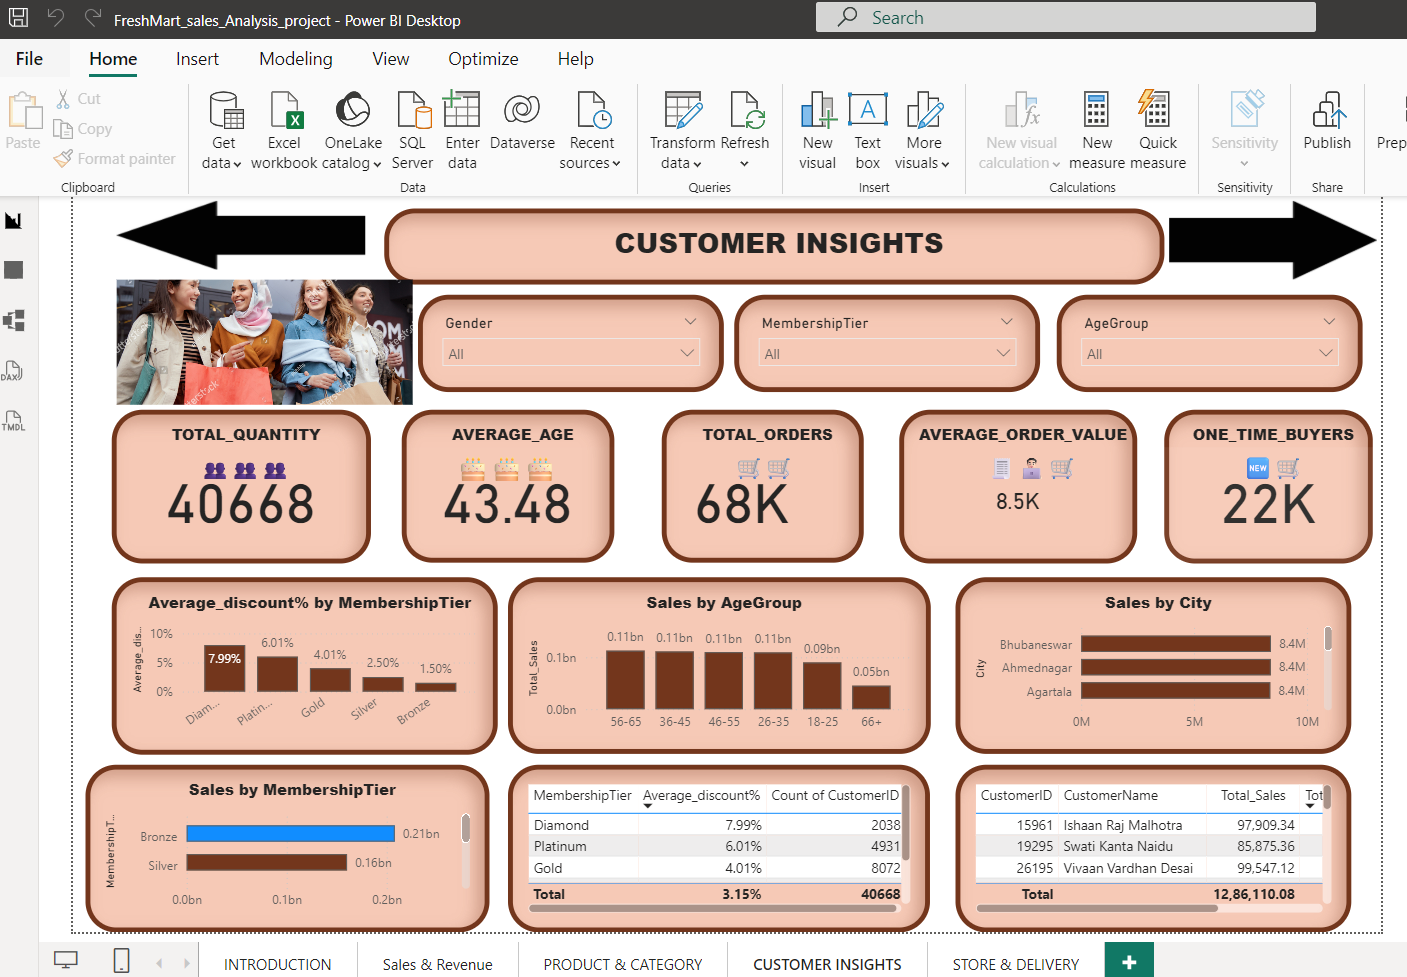

Layout of this report page (visuals, bound fields, positions):
{"tool":"powerbi","page":{"name":"CUSTOMER INSIGHTS","canvas":[1280,720],"ordinal":3},"visuals":[{"type":"textbox","box":[0,0,1280,64],"z":0},{"type":"image","box":[16,6,92,54],"z":1000},{"type":"textbox","box":[119.4,3.6,482.6,56.7],"z":2000},{"type":"actionButton","box":[640,14,120,36],"z":3000},{"type":"actionButton","box":[766,14,120,36],"z":4000},{"type":"actionButton","box":[892,14,120,36],"z":5000},{"type":"actionButton","box":[1018,14,120,36],"z":6000},{"type":"actionButton","box":[1144,14,120,36],"z":7000},{"type":"slicer","title":"GENDER","fields":{"Values":["FreshMart_Sales_Analysis.Gender"]},"box":[15.7,76,406.6,73.6],"z":8000},{"type":"slicer","title":"MEMBERSHIP TIER","fields":{"Values":["FreshMart_Sales_Analysis.MembershipTier"]},"box":[437.9,76,406.6,73.6],"z":9000},{"type":"slicer","title":"AGE GROUP","fields":{"Values":["FreshMart_Sales_Analysis.AgeGroup"]},"box":[857.8,76,406.6,73.6],"z":10000},{"type":"cardVisual","title":"📦 TOTAL QUANTITY","fields":{"Data":["FreshMart_Sales_Analysis.Toatl_customers"]},"box":[15.7,173.7,240.1,92.9],"z":11000},{"type":"cardVisual","title":"🎂 AVERAGE AGE","fields":{"Data":["FreshMart_Sales_Analysis.Average_age"]},"box":[267.8,173.7,240.1,92.9],"z":12000},{"type":"cardVisual","title":"🧾 TOTAL ORDERS","fields":{"Data":["FreshMart_Sales_Analysis.Total_Orders"]},"box":[520,173.7,240.1,92.9],"z":13000},{"type":"cardVisual","title":"🛒 AVERAGE ORDER VALUE","fields":{"Data":["FreshMart_Sales_Analysis.Average_order_value"]},"box":[772.1,173.7,240.1,92.9],"z":14000},{"type":"cardVisual","title":"🆕 ONE TIME BUYERS","fields":{"Data":["FreshMart_Sales_Analysis.One_Time_Buyers"]},"box":[1023.1,173.7,240.1,92.9],"z":15000},{"type":"clusteredColumnChart","title":"Average Discount % by Membership Tier","fields":{"Y":["FreshMart_Sales_Analysis.Average_discount%"],"Category":["FreshMart_Sales_Analysis.MembershipTier"]},"box":[15.7,279.9,407.8,217.2],"z":16000},{"type":"clusteredColumnChart","title":"Sales by AgeGroup","fields":{"Category":["FreshMart_Sales_Analysis.AgeGroup"],"Y":["FreshMart_Sales_Analysis.Total_Sales"]},"box":[435.5,279.9,409,217.2],"z":17000},{"type":"clusteredBarChart","title":"Sales by City","fields":{"Y":["FreshMart_Sales_Analysis.Total_Sales"],"Category":["FreshMart_Sales_Analysis.City"]},"box":[856.6,279.9,407.8,217.2],"z":18000},{"type":"clusteredBarChart","title":"Sales by MembershipTier","fields":{"Y":["FreshMart_Sales_Analysis.Total_Sales"],"Category":["FreshMart_Sales_Analysis.MembershipTier"]},"box":[15.7,507.9,407.8,202.7],"z":19000},{"type":"tableEx","title":"Membership Tier Summary","fields":{"Values":["FreshMart_Sales_Analysis.MembershipTier","FreshMart_Sales_Analysis.Average_discount%","Count(FreshMart_Sales_Analysis.CustomerID)"]},"box":[435.5,507.9,409,202.7],"z":20000},{"type":"tableEx","title":"Top Customers","fields":{"Values":["FreshMart_Sales_Analysis.CustomerID","FreshMart_Sales_Analysis.CustomerName","FreshMart_Sales_Analysis.Total_Sales","FreshMart_Sales_Analysis.Total_Orders","FreshMart_Sales_Analysis.Years_Active"]},"box":[856.6,507.9,407.8,202.7],"z":21000}]}

Visuals, with their boxes on the page's 1280x720 design canvas (x1, y1, x2, y2). These are canvas units, not pixel positions in the 1407x977 screenshot, which may show the page scaled, cropped or inside an application window:
textbox: 0, 0, 1280, 64
image: 16, 6, 108, 60
textbox: 119, 4, 602, 60
actionButton: 640, 14, 760, 50
actionButton: 766, 14, 886, 50
actionButton: 892, 14, 1012, 50
actionButton: 1018, 14, 1138, 50
actionButton: 1144, 14, 1264, 50
"GENDER" slicer: 16, 76, 422, 150
"MEMBERSHIP TIER" slicer: 438, 76, 844, 150
"AGE GROUP" slicer: 858, 76, 1264, 150
"📦 TOTAL QUANTITY" cardVisual: 16, 174, 256, 267
"🎂 AVERAGE AGE" cardVisual: 268, 174, 508, 267
"🧾 TOTAL ORDERS" cardVisual: 520, 174, 760, 267
"🛒 AVERAGE ORDER VALUE" cardVisual: 772, 174, 1012, 267
"🆕 ONE TIME BUYERS" cardVisual: 1023, 174, 1263, 267
"Average Discount % by Membership Tier" clusteredColumnChart: 16, 280, 424, 497
"Sales by AgeGroup" clusteredColumnChart: 436, 280, 844, 497
"Sales by City" clusteredBarChart: 857, 280, 1264, 497
"Sales by MembershipTier" clusteredBarChart: 16, 508, 424, 711
"Membership Tier Summary" tableEx: 436, 508, 844, 711
"Top Customers" tableEx: 857, 508, 1264, 711
